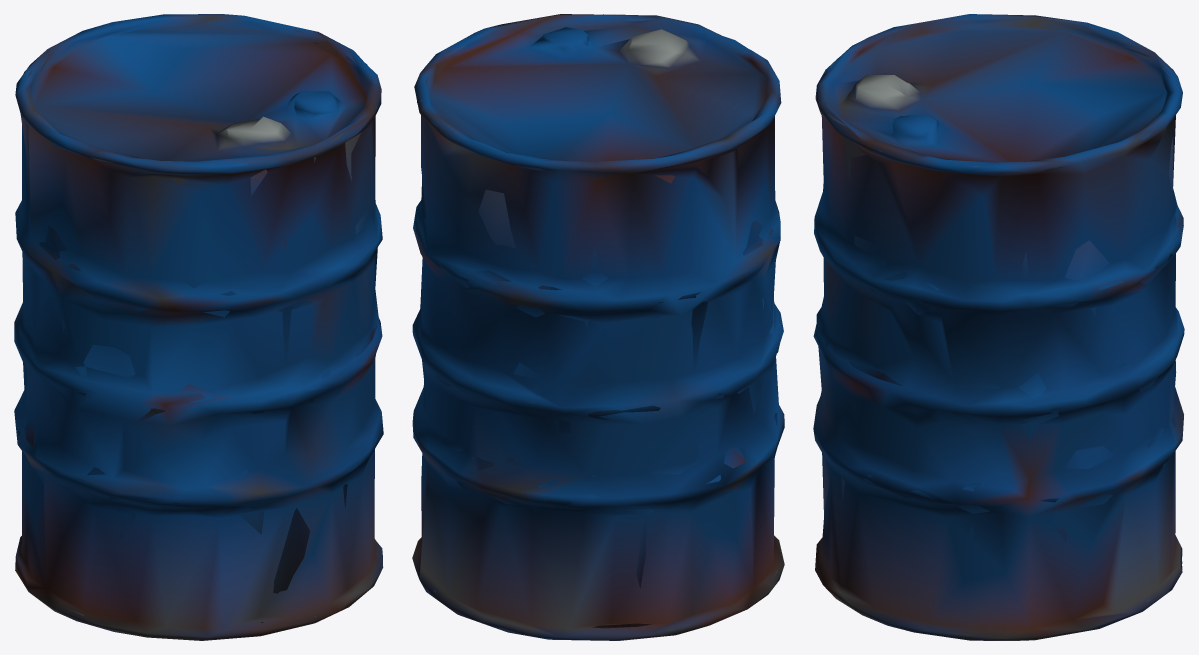
File: gen3d-oil-drum-lod1.glb
3 views of the same model, side by side, from view 1: azimuth 30°, elevation 25°; view 2: azimuth 150°, elevation 25°; view 3: azimuth 270°, elevation 25° (orthographic).
Visible parts, largest first — view 1: part_0; view 2: part_0; view 3: part_0.
Part boxes in pixels (box(x1,y1,x2,y2)): part_0: box(14, 14, 383, 640); part_0: box(412, 14, 784, 640); part_0: box(813, 14, 1184, 640).
Size of the model in its own units: 0.6994 by 0.9994 by 0.6984.
